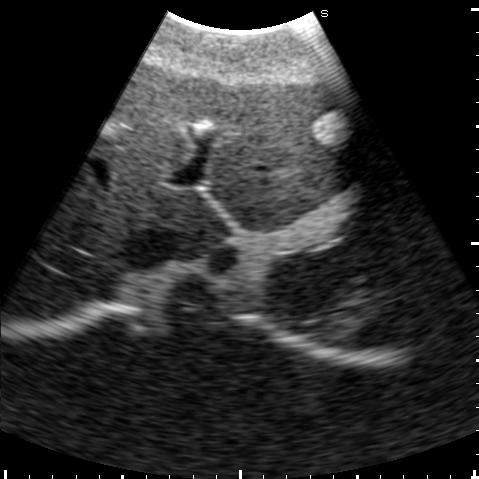IVC: (125, 228, 182, 272)
S1: (172, 192, 234, 257)
S2: (207, 140, 387, 232)
S3: (207, 73, 378, 191)
Tumor: (310, 112, 349, 147)
